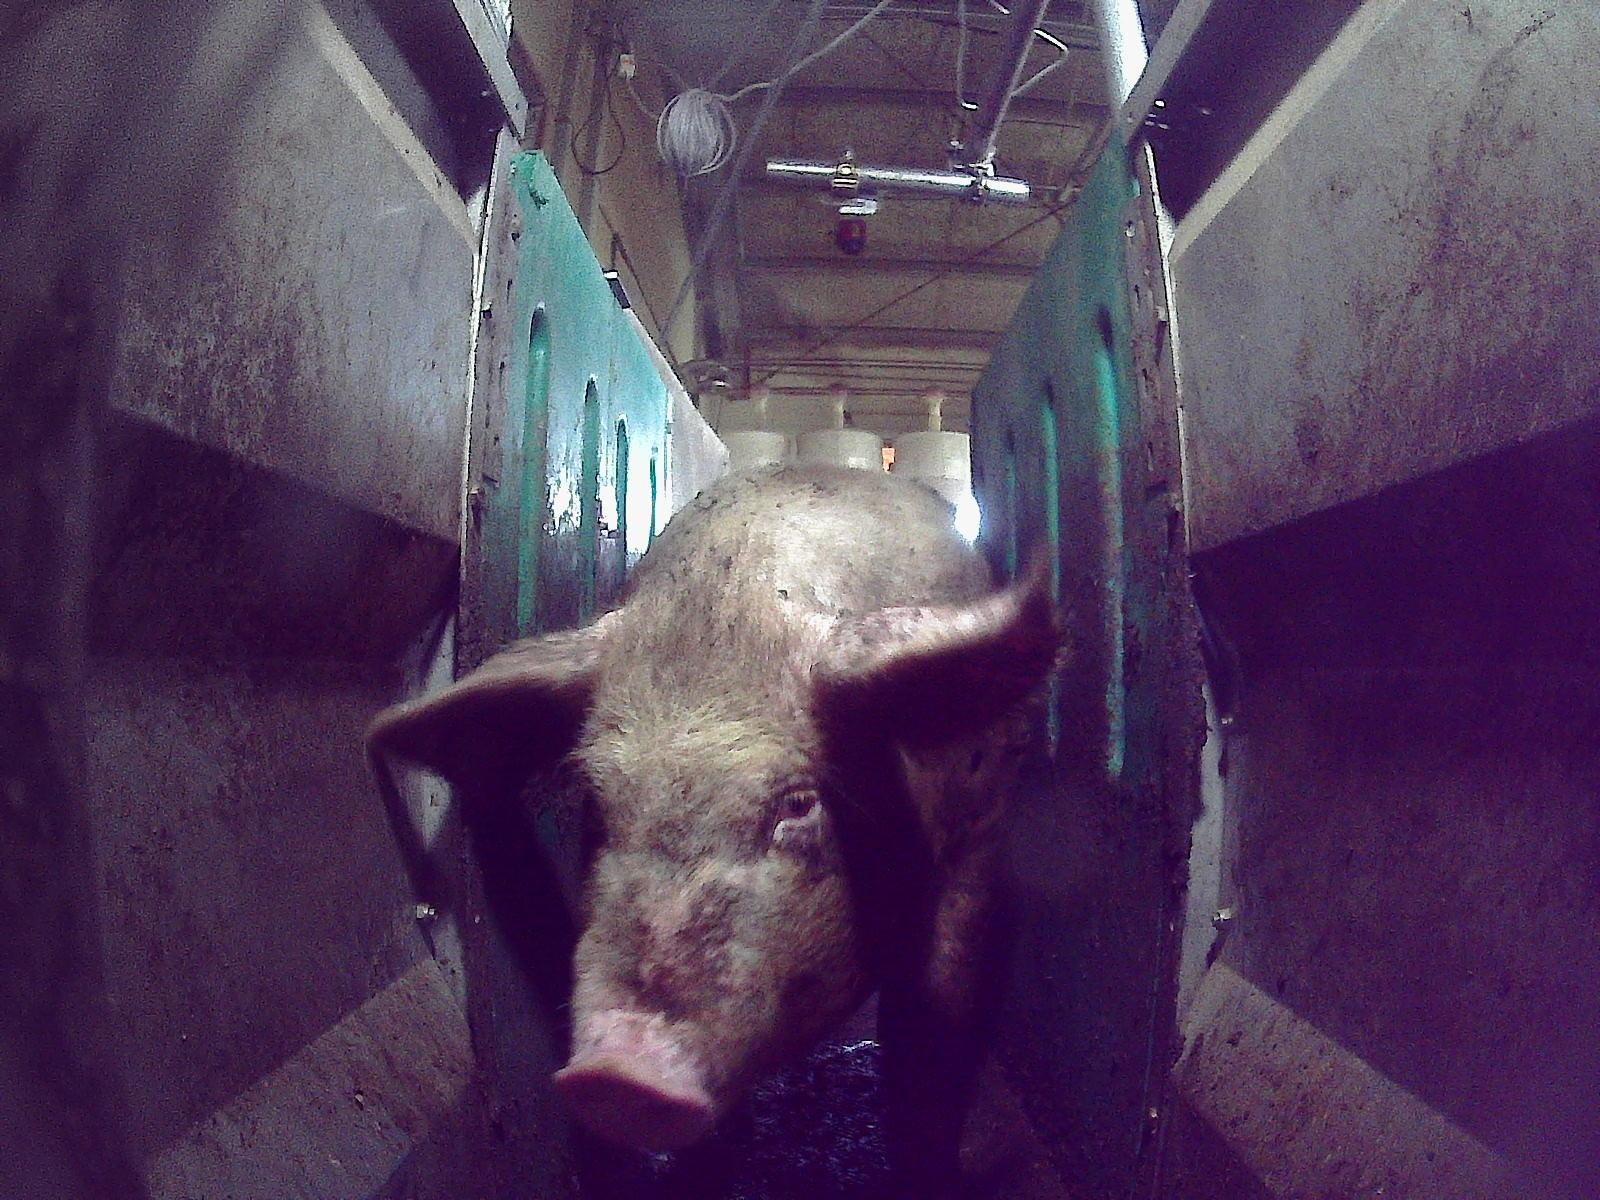Face: (549, 590, 923, 1151)
